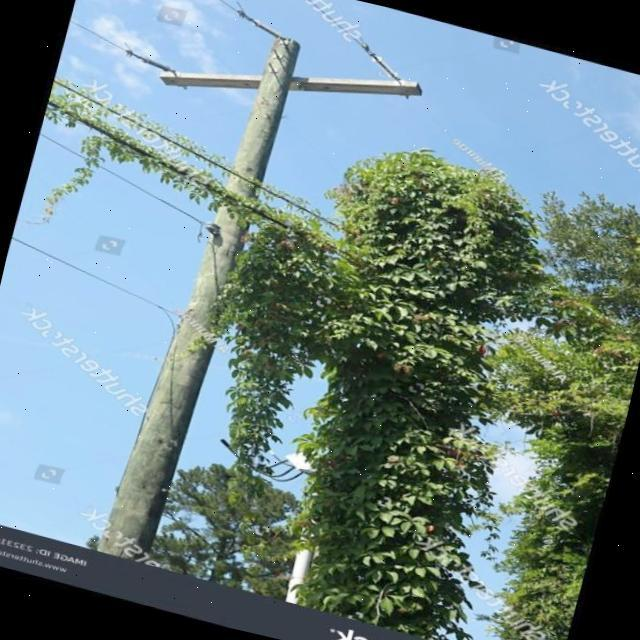critical vegetation: (0, 0, 593, 639)
